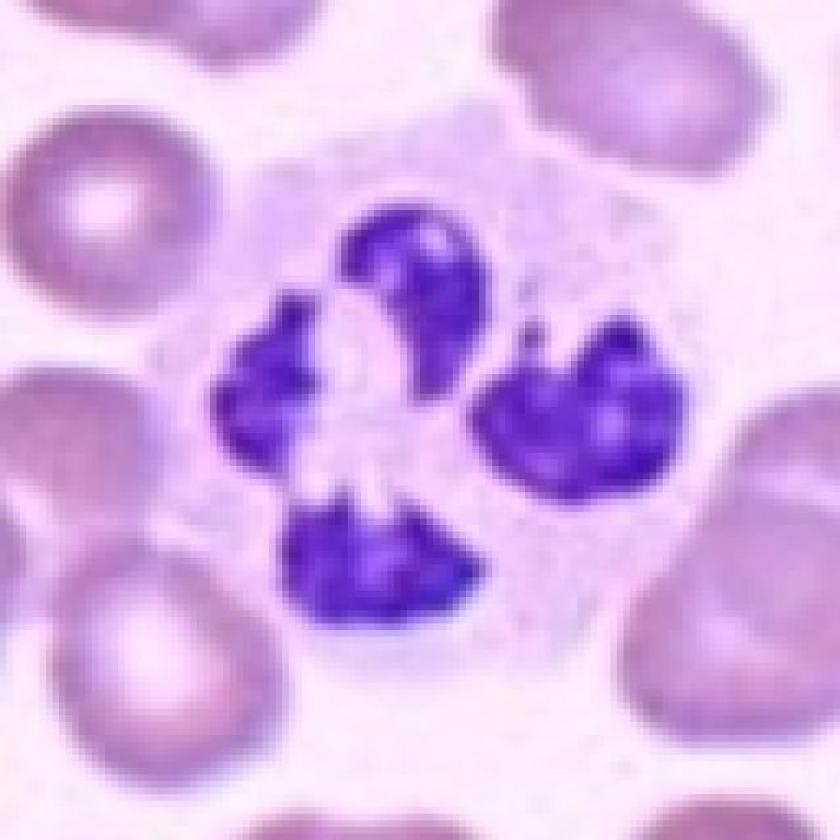neutrophil: (130, 134, 757, 734)
